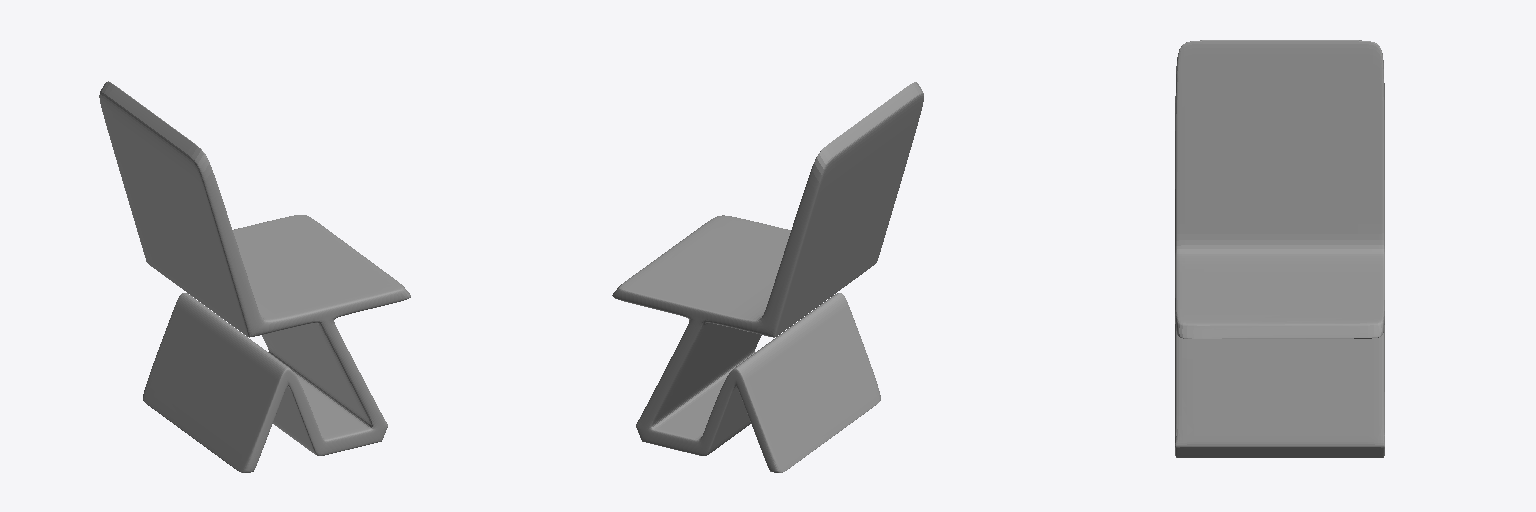
File: stul2.obj
The picture shows the model from 3 angles: view 1: azimuth 30°, elevation 25°; view 2: azimuth 150°, elevation 25°; view 3: azimuth 270°, elevation 25°; orthographic projection.
Visible parts, largest first — view 1: Plane; view 2: Plane; view 3: Plane.
Part boxes in pixels (left/top/right/bottom): Plane: left=99, top=81, right=410, bottom=472; Plane: left=612, top=82, right=923, bottom=472; Plane: left=1175, top=40, right=1384, bottom=457.
Size of the model in its own units: 2.37 by 3.48 by 2.